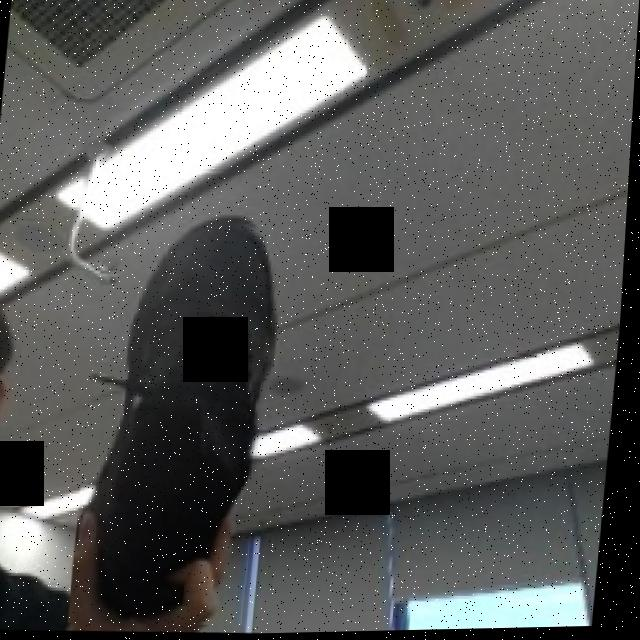shoe: (75, 208, 289, 630)
